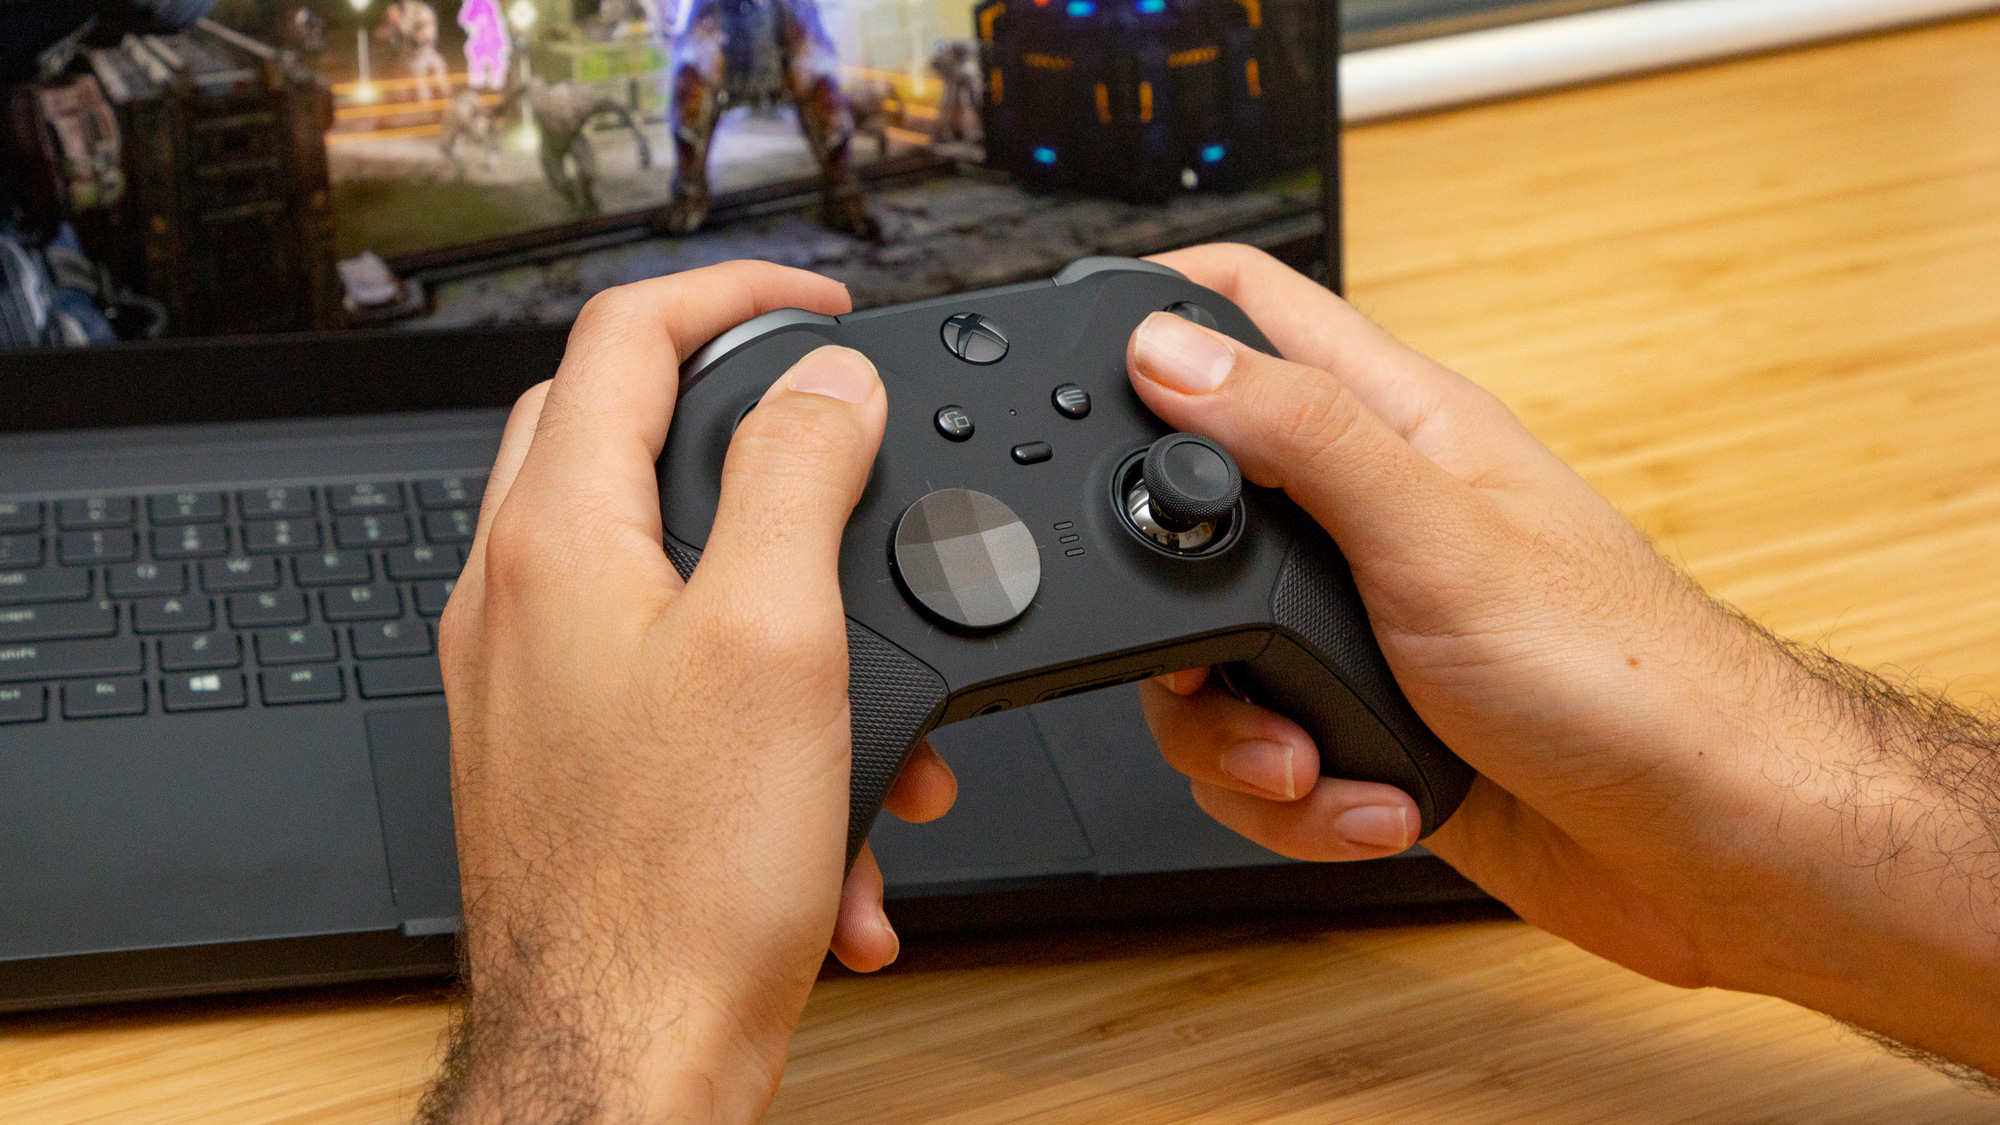controller: (657, 255, 1478, 885)
